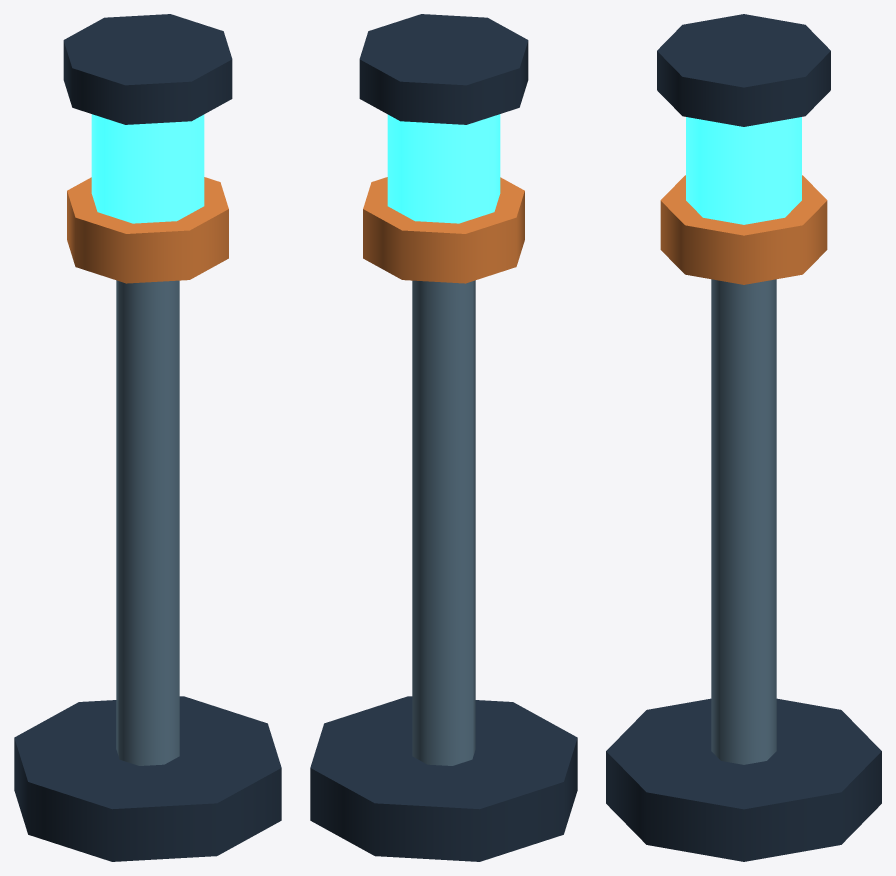
Rendered from beacon.glb.
The picture shows the model from 3 angles, left to right: view 1: azimuth 30°, elevation 25°; view 2: azimuth 150°, elevation 25°; view 3: azimuth 270°, elevation 25°; orthographic projection.
Visible parts, largest first — view 1: base, pole, cap, lower-housing, lamp; view 2: base, pole, cap, lower-housing, lamp; view 3: base, pole, cap, lamp, lower-housing.
Part boxes in pixels (x1,y1,x2,y2): base: (14,696,281,861); pole: (116,280,179,765); cap: (63,14,232,124); lower-housing: (67,177,228,283); lamp: (91,114,204,223); base: (310,696,577,861); pole: (412,280,475,765); cap: (359,14,528,124); lower-housing: (363,177,524,283); lamp: (387,114,500,223); base: (606,698,881,861); pole: (711,279,776,764); cap: (657,14,830,126); lamp: (686,117,801,224); lower-housing: (660,175,827,284).
Size of the model in its own units: 0.76 by 2.29 by 0.76.
